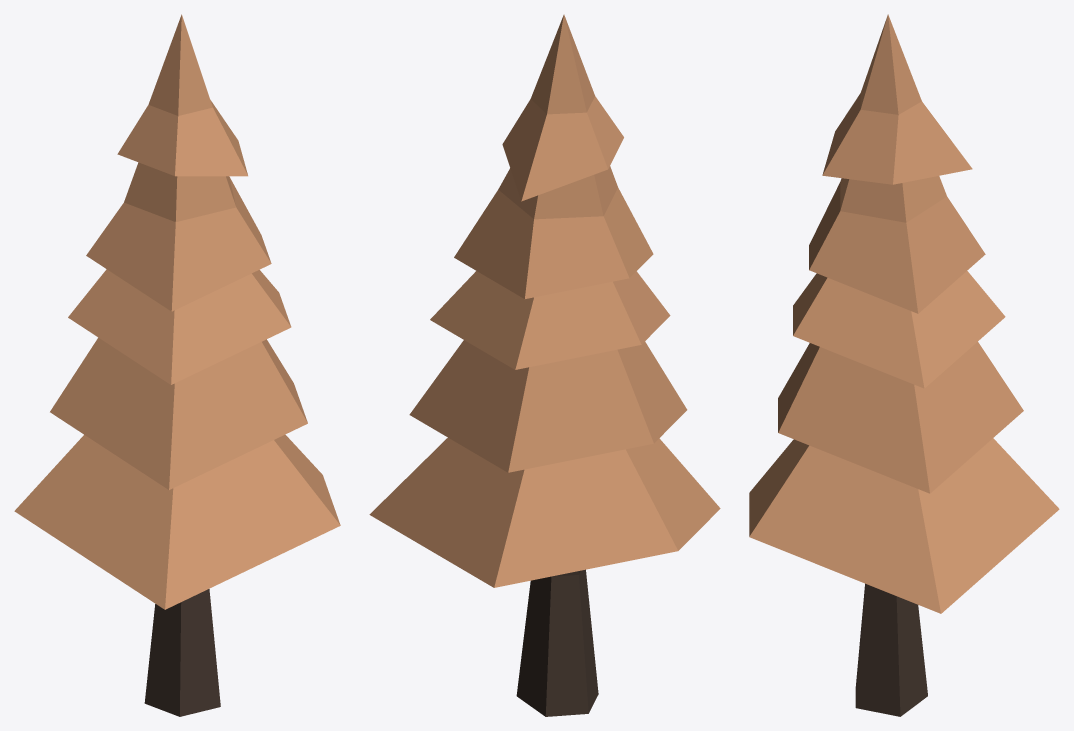
File: orange_conetree1.fbx
3 renders of one model, left to right at view 1: azimuth 30°, elevation 25°; view 2: azimuth 150°, elevation 25°; view 3: azimuth 270°, elevation 25°, orthographic.
Parts seen in each view (by area): view 1: orange_conetree1; view 2: orange_conetree1; view 3: orange_conetree1.
Boxes of the visible parts, x1=… form: orange_conetree1: x1=14, y1=14, x2=340, y2=716; orange_conetree1: x1=369, y1=14, x2=720, y2=716; orange_conetree1: x1=749, y1=14, x2=1059, y2=716.
Bounding box in the file's own units: 648 × 1377 × 568.
